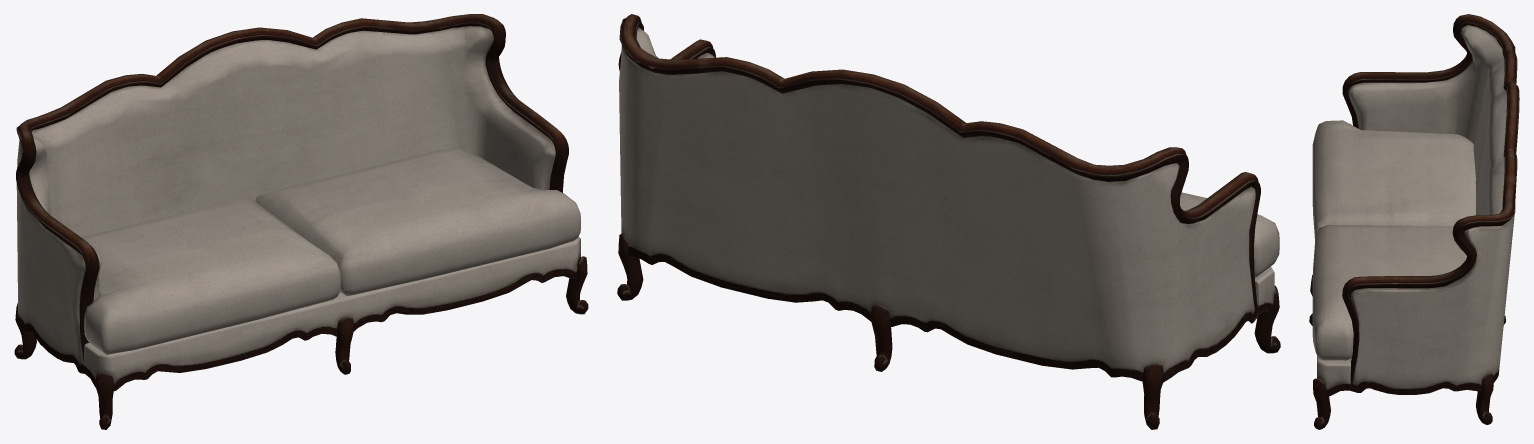
File: sofa.obj
The picture shows the model from 3 angles, left to right: view 1: azimuth 30°, elevation 25°; view 2: azimuth 150°, elevation 25°; view 3: azimuth 270°, elevation 25°; orthographic projection. The views are drawn at different scales.
Parts seen in each view (by area): view 1: Sofa_01_Line1789534131.002; view 2: Sofa_01_Line1789534131.002; view 3: Sofa_01_Line1789534131.002.
Part boxes in pixels (left/top/right/bottom): Sofa_01_Line1789534131.002: left=14, top=14, right=588, bottom=429; Sofa_01_Line1789534131.002: left=617, top=14, right=1280, bottom=429; Sofa_01_Line1789534131.002: left=1309, top=14, right=1519, bottom=429.
Size of the model in its own units: 1.57 by 0.7965 by 0.658.
1 material, 1 textured.
